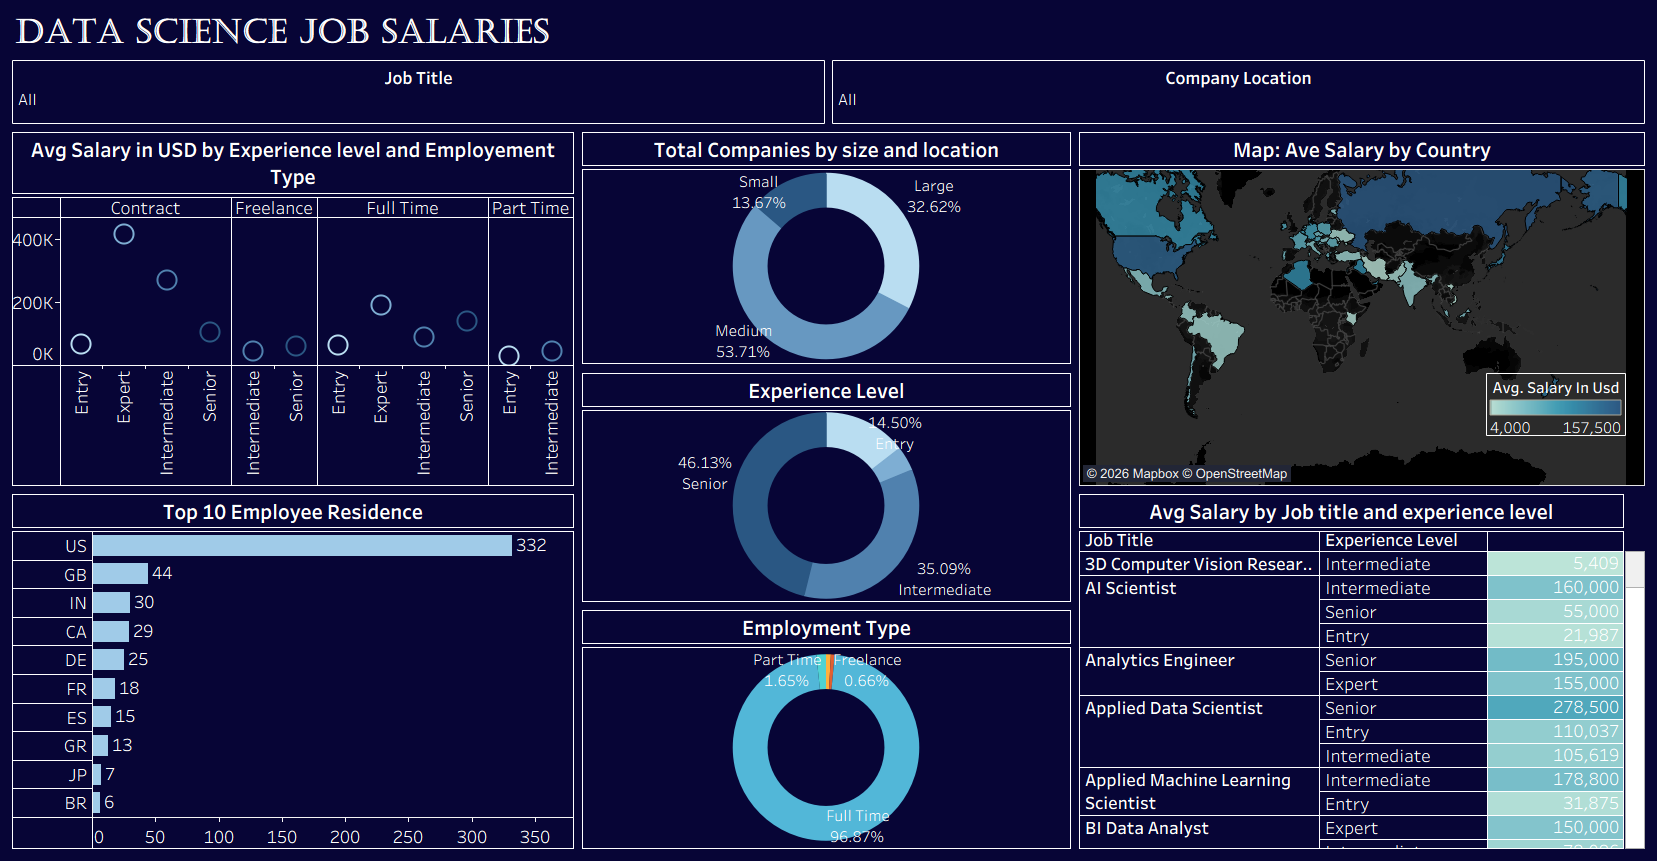

The dashboard page shown, as its layout file describes it:
{"tool":"tableau","page":{"name":"Dashboard 1","canvas":[1000,1000],"units":"permille","ordinal":0},"visuals":[{"type":"title","box":[4.8,9.3,990.3,55.8]},{"type":"filter","title":"Map: Ave Salary by Country","param":"[federated.1x9dyvv14swezp19ylbzm1igwa62].[none:job_title:nk]","box":[4.8,65,495.2,84.1]},{"type":"filter","title":"Total Companies by size and location","param":"[federated.1x9dyvv14swezp19ylbzm1igwa62].[none:company_location:nk]","box":[500,65,495.2,84.1]},{"type":"worksheet","title":"Avg Salary in USD by Experience level and Employement Type","mark":"Shape","rows":["salary_in_usd"],"cols":["employment_type","experience_level"],"box":[4.8,149.2,343.9,420.2]},{"type":"worksheet","title":"Total Companies by size and location","mark":"Pie","rows":["Calculation_0134444079722497","Calculation_0134444079722497"],"box":[348.7,149.2,300,279.2]},{"type":"worksheet","title":"Map: Ave Salary by Country","mark":"Automatic","box":[648.7,149.2,346.5,420.3]},{"type":"worksheet","title":"Experience Level","mark":"Pie","rows":["Calculation_0134444079722497","Calculation_0134444079722497"],"box":[348.7,428.4,300,275]},{"type":"legend","title":"Map: Ave Salary by Country","param":"[federated.1x9dyvv14swezp19ylbzm1igwa62].[avg:salary_in_usd:qk]","box":[896.8,433.2,84.5,73.2]},{"type":"worksheet","title":"Top 10 Employee Residence","mark":"Automatic","rows":["employee_residence"],"cols":["employee_residence"],"box":[4.8,569.4,343.9,421.4]},{"type":"worksheet","title":"Avg Salary by Job title and experience level","mark":"Square","rows":["job_title","experience_level"],"box":[648.7,569.4,346.5,421.3]},{"type":"worksheet","title":"Employment Type","mark":"Pie","rows":["Calculation_0134444079722497","Calculation_0134444079722497"],"box":[348.7,703.4,300,287.3]}]}

Visuals, with their boxes on the dashboard's canvas, which has no fixed pixel size, in thousandths of its width and height (x1, y1, x2, y2). These are canvas units, not pixel positions in the 1657x861 screenshot, which may show the page scaled, cropped or inside an application window:
title: detection(5, 9, 995, 65)
"Map: Ave Salary by Country" filter: detection(5, 65, 500, 149)
"Total Companies by size and location" filter: detection(500, 65, 995, 149)
"Avg Salary in USD by Experience level and Employement Type" worksheet (Shape marks): detection(5, 149, 349, 569)
"Total Companies by size and location" worksheet (Pie marks): detection(349, 149, 649, 428)
"Map: Ave Salary by Country" worksheet: detection(649, 149, 995, 570)
"Experience Level" worksheet (Pie marks): detection(349, 428, 649, 703)
"Map: Ave Salary by Country" legend: detection(897, 433, 981, 506)
"Top 10 Employee Residence" worksheet: detection(5, 569, 349, 991)
"Avg Salary by Job title and experience level" worksheet (Square marks): detection(649, 569, 995, 991)
"Employment Type" worksheet (Pie marks): detection(349, 703, 649, 991)
